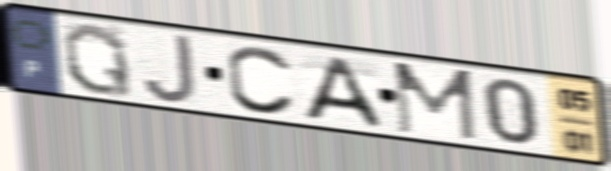0: (478, 76, 542, 147)
A: (299, 53, 386, 131)
C: (224, 42, 298, 118)
J: (140, 32, 200, 106)
M: (389, 59, 480, 144)
Q: (59, 20, 137, 100)
